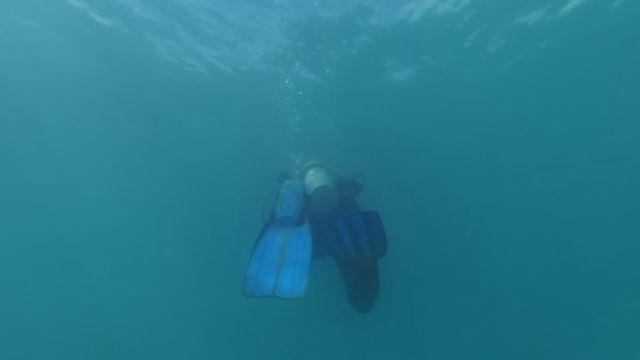Diver: (236, 158, 397, 323)
